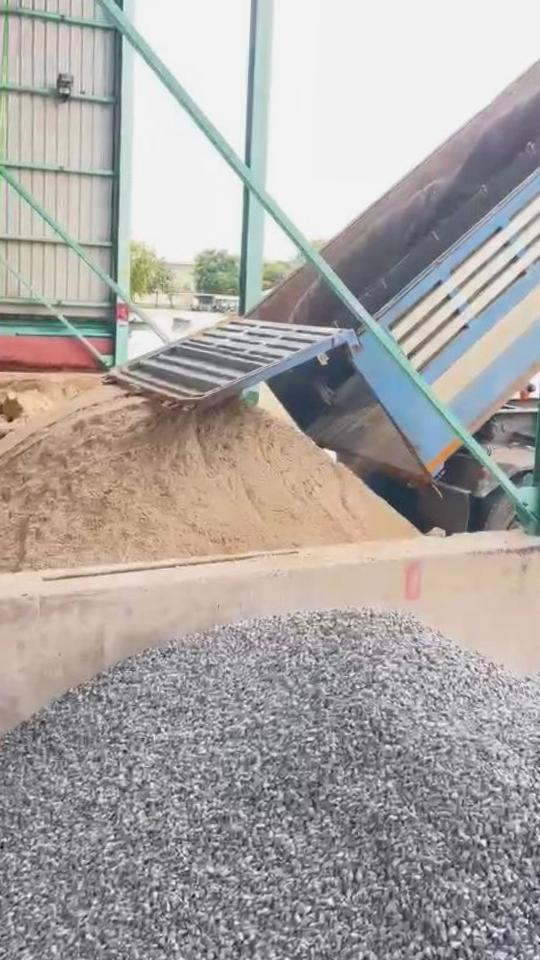gravel: (0, 612, 540, 960)
sand: (0, 396, 416, 570), (0, 374, 100, 425)
